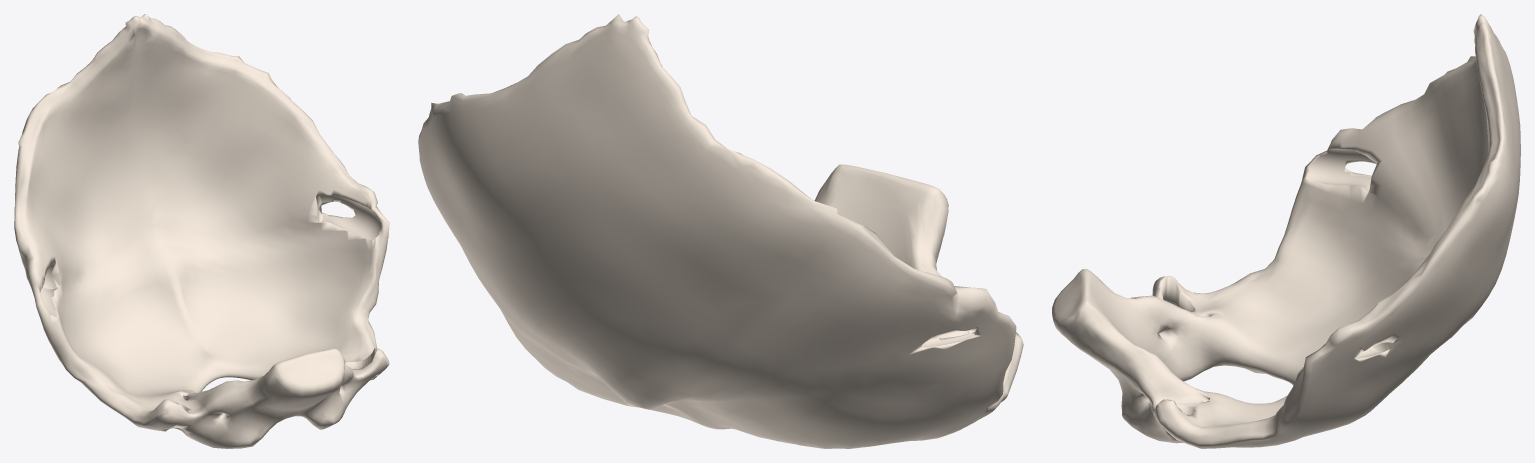
Rendered from occipital_jf_s122.glb.
The picture shows the model from 3 angles, left to right: view 1: azimuth 30°, elevation 25°; view 2: azimuth 150°, elevation 25°; view 3: azimuth 270°, elevation 25°; orthographic projection. The views are drawn at different scales.
Visible parts, largest first — view 1: Occipital bone; view 2: Occipital bone; view 3: Occipital bone.
Boxes of the visible parts, x1,y1,x2,y2 form: Occipital bone: (14,14,389,448); Occipital bone: (418,14,1023,448); Occipital bone: (1052,14,1520,448).
Size of the model in its own units: 0.1201 by 0.107 by 0.1158.
